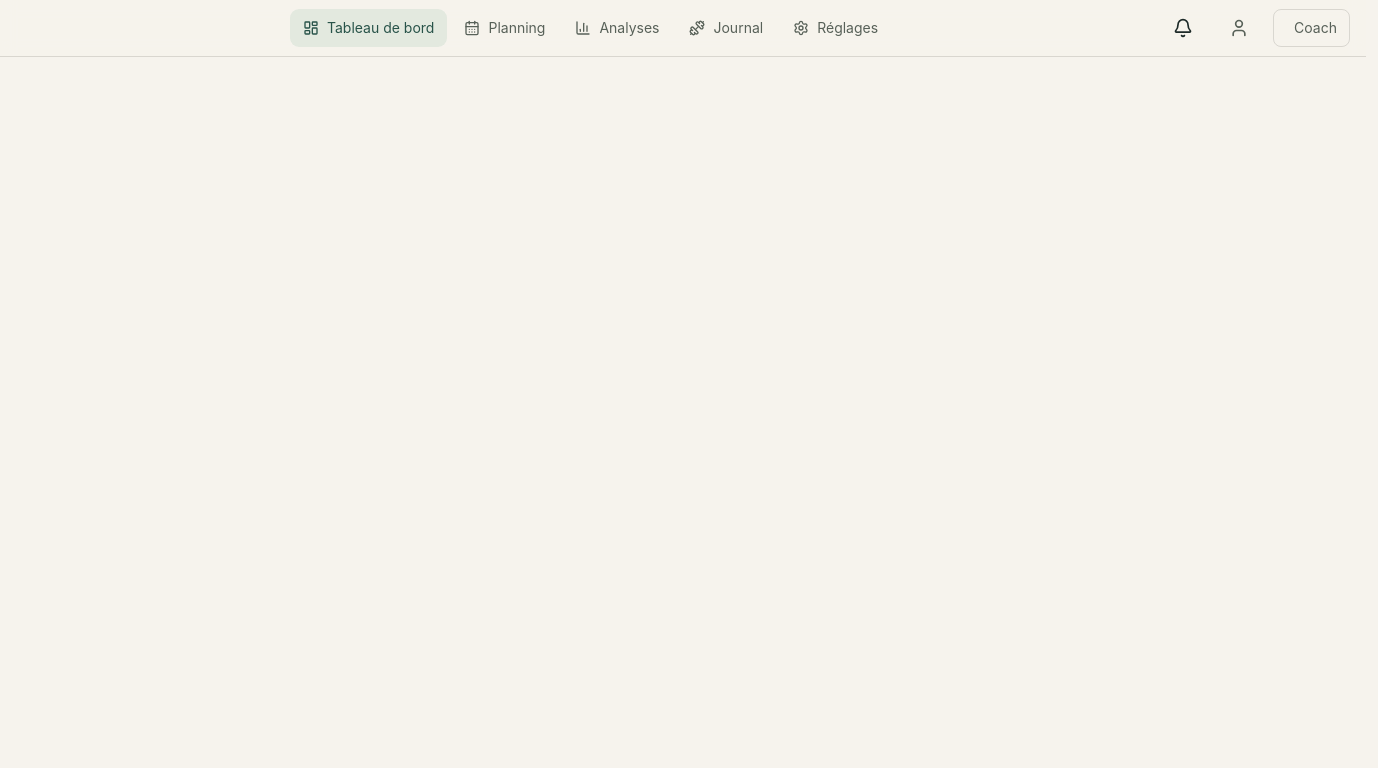
Test case: toggles the coach from navigation and hides it with Escape
Click the button with aria-label "Ouvrir le coach" at (1312, 28), box [1273,9,1350,47]
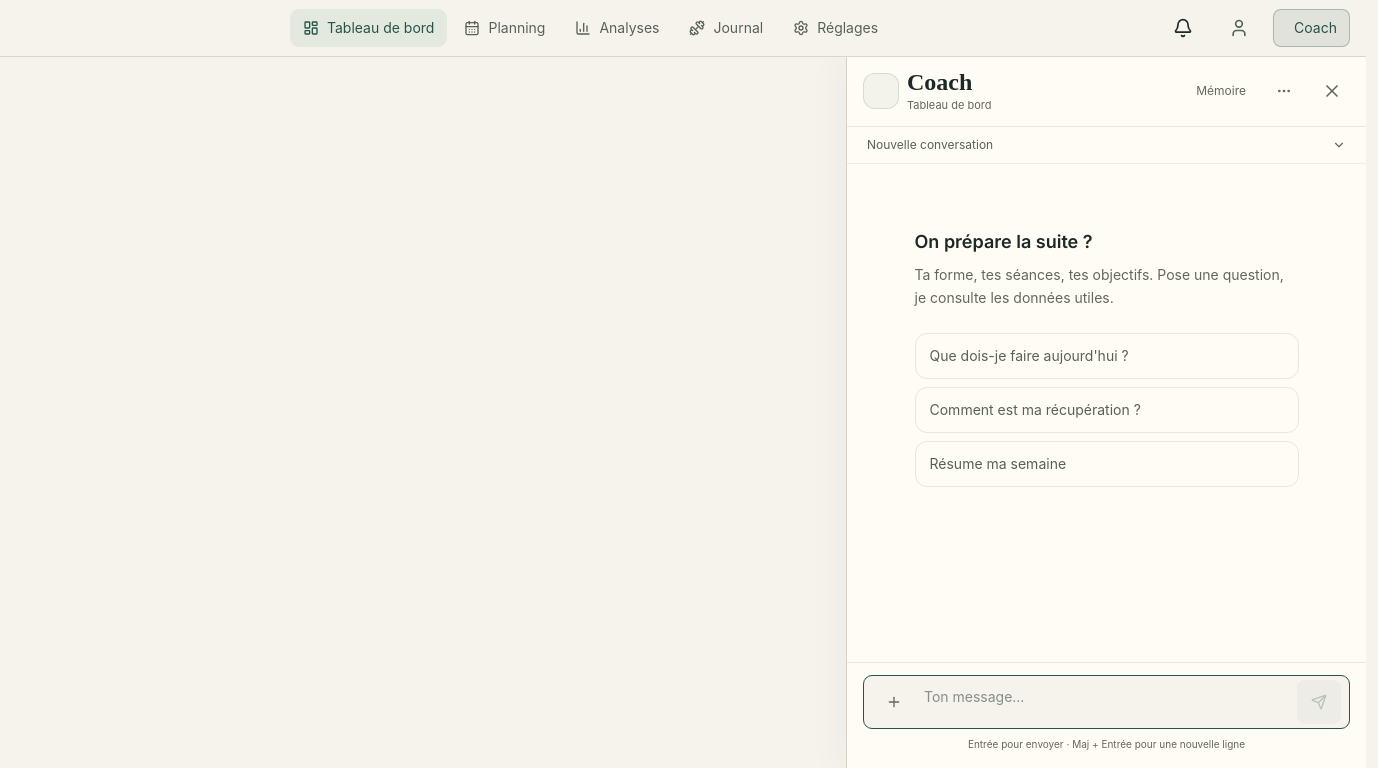
Now the element named "Coach IA" is shown, box [846,57,1366,767]
Now the button named "Ouvrir le coach" is expanded
Click the button named "Ouvrir le coach" at (1312, 28), box [1273,9,1350,47]
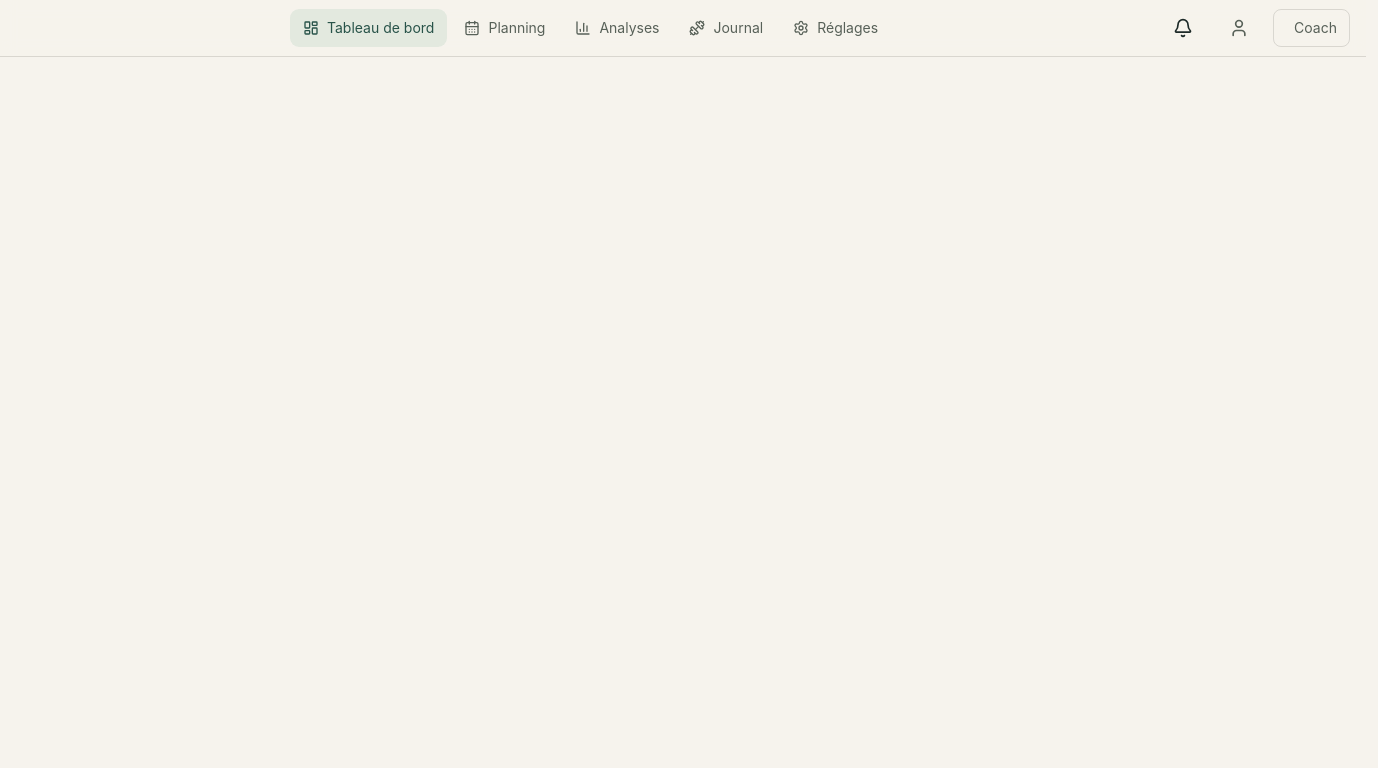
Click the button with aria-label "Ouvrir le coach" at (1312, 28), box [1273,9,1350,47]
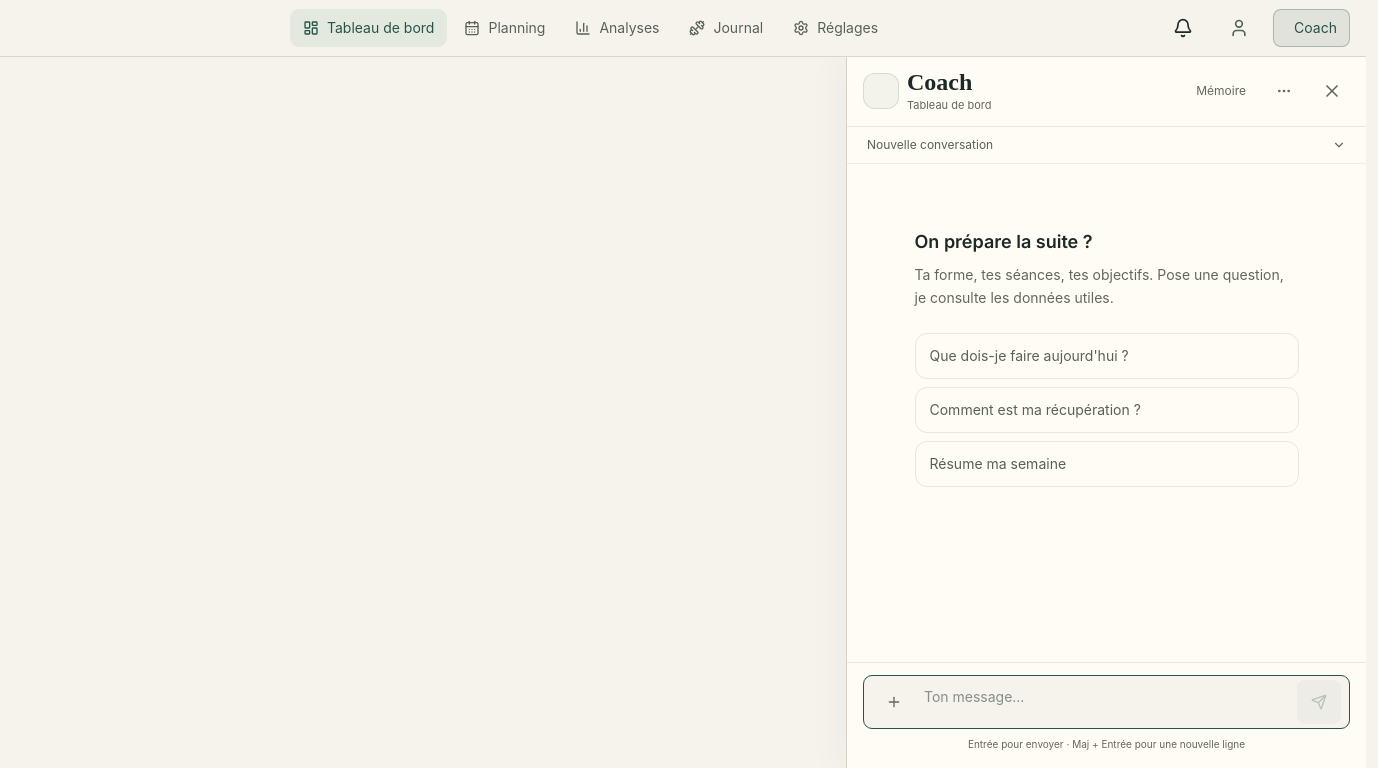
Press Escape
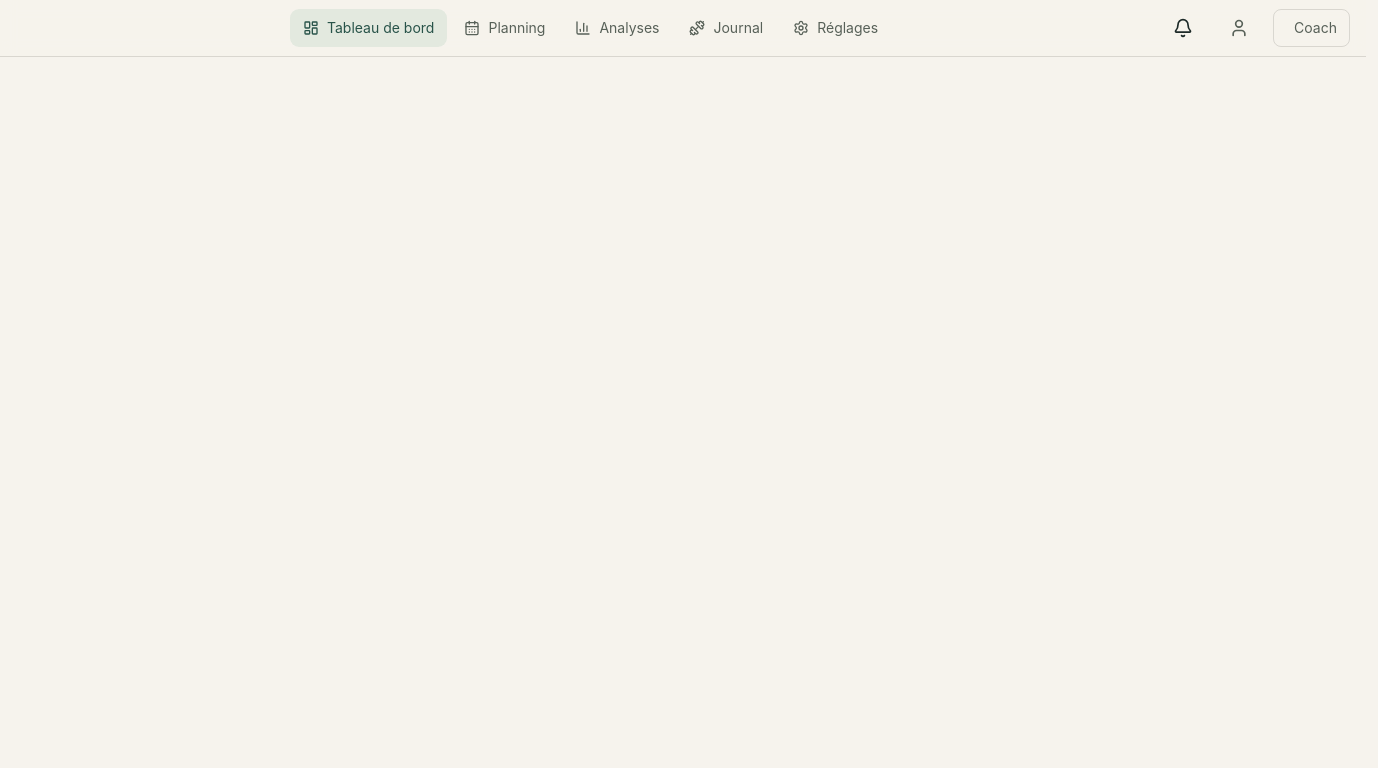
Now the button with aria-label "Ouvrir le coach" is collapsed, box [1273,9,1350,47]
